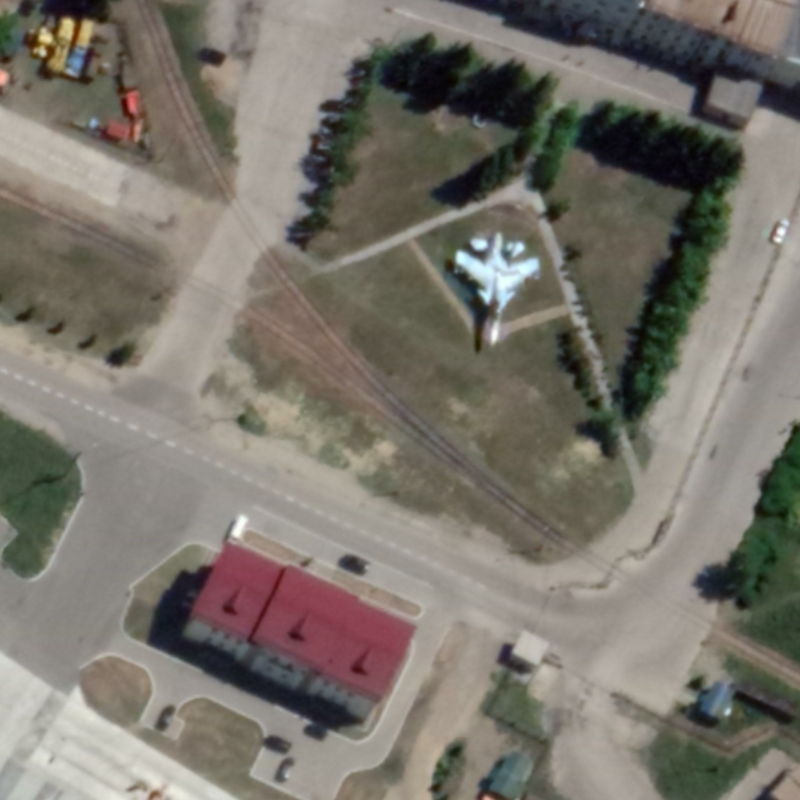A19: (449, 229, 543, 351)
